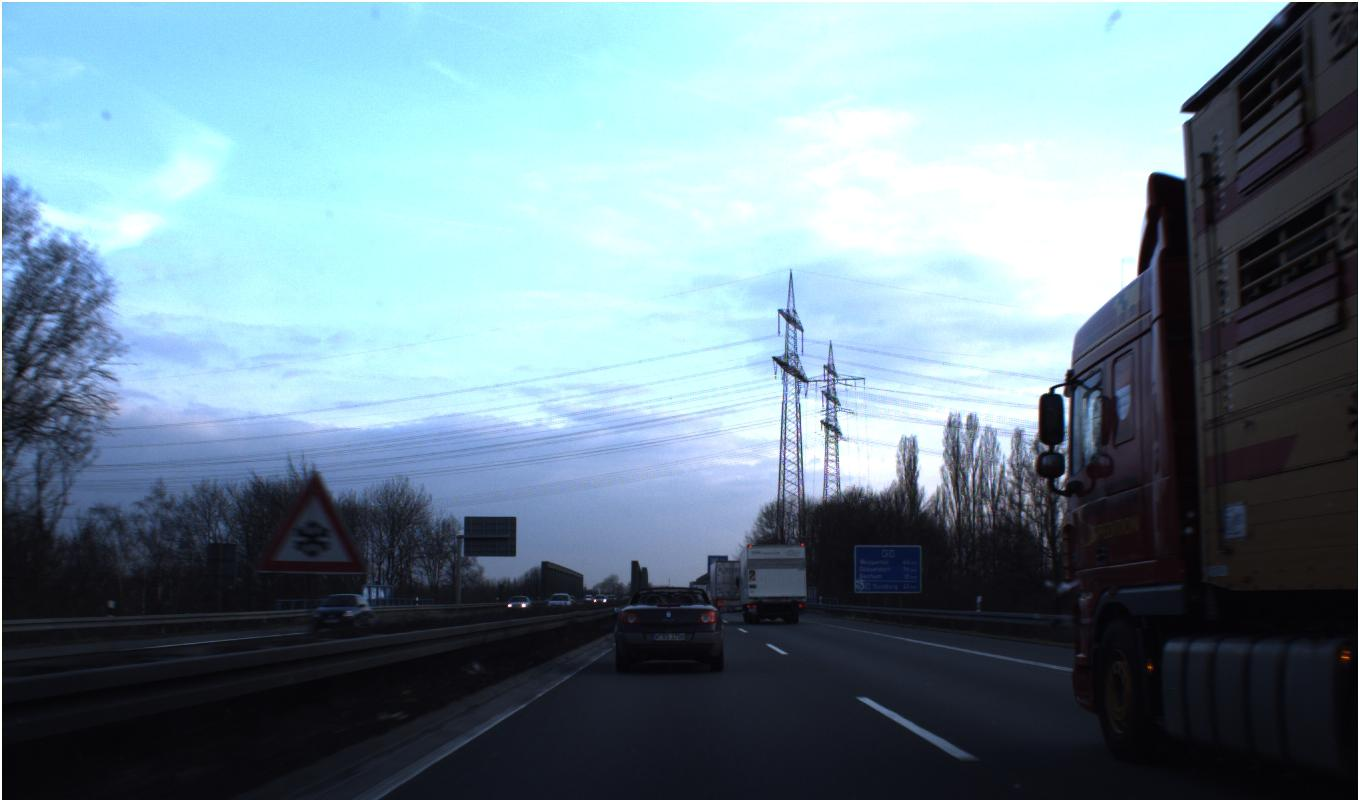danger: (252, 470, 370, 574)
